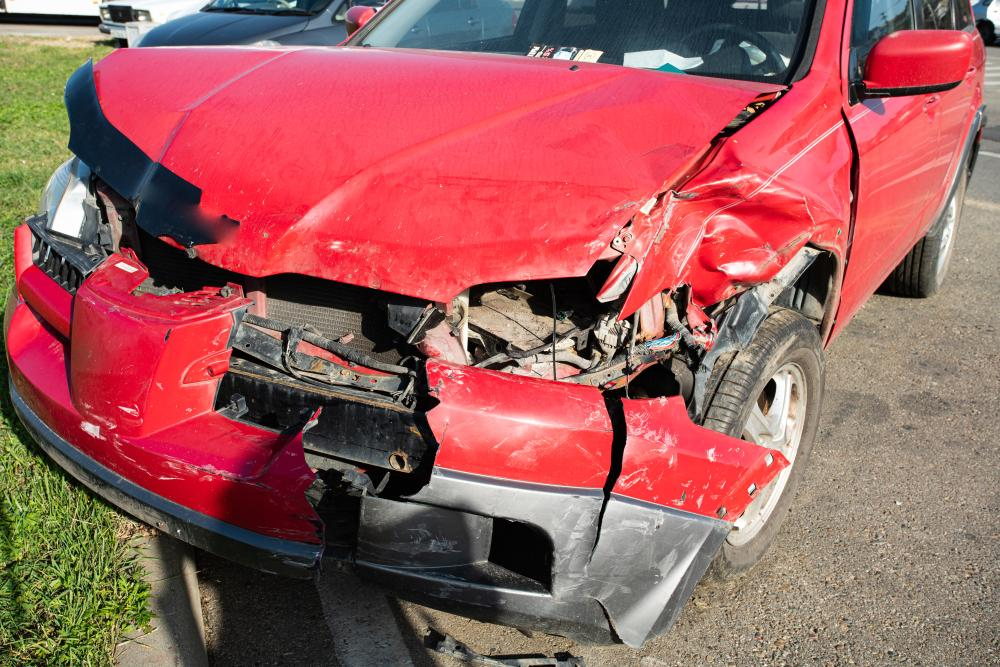crack: (584, 388, 627, 572), (588, 598, 624, 645)
dent: (335, 78, 759, 244), (614, 175, 811, 300)
scratch: (79, 394, 243, 483), (556, 494, 680, 596), (490, 404, 602, 465), (617, 412, 687, 492), (368, 528, 460, 557)
